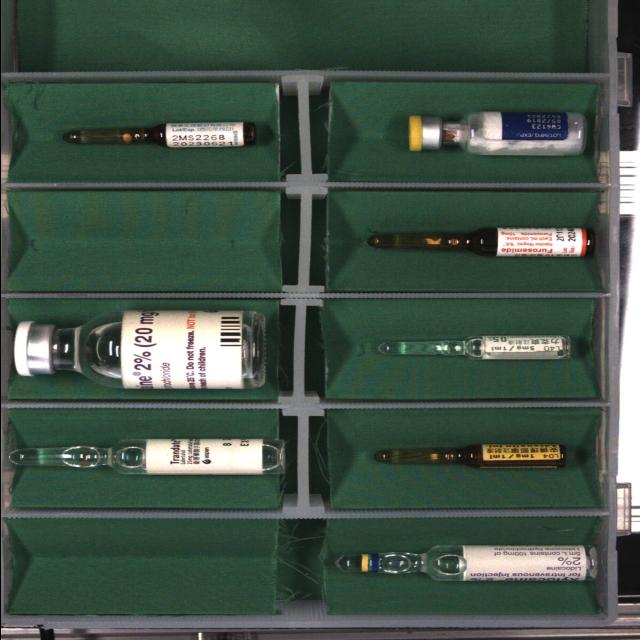Vials: (13, 310, 265, 389), (406, 112, 585, 156)
